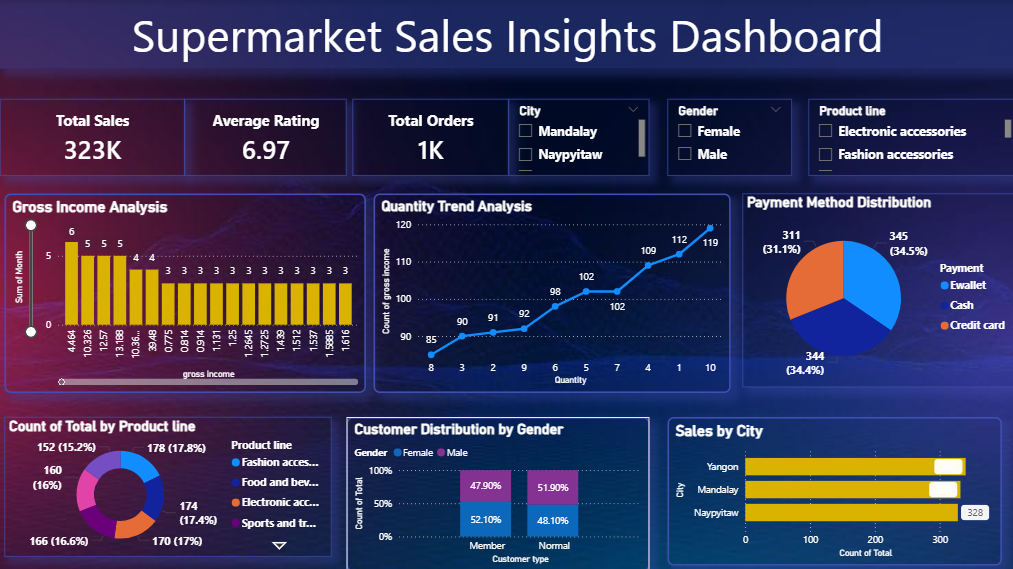

What the dashboard file says about the page in this screenshot:
{"tool":"powerbi","page":{"name":"Page 1","canvas":[1280,720],"ordinal":0},"visuals":[{"type":"lineChart","title":"Quantity Trend Analysis","fields":{"Category":["Sheet1.Quantity"],"Y":["CountNonNull(Sheet1.gross income)"]},"box":[470.6,243.8,449.8,251.3],"z":0},{"type":"columnChart","title":"Gross  Income Analysis","fields":{"Category":["Sheet1.gross income"],"Y":["Sum(Sheet1.Month)"]},"box":[5.7,243.8,455.4,251.3],"z":1000},{"type":"cardVisual","fields":{"Data":["CountNonNull(Sheet1.Invoice ID)"]},"box":[444.1,124.7,196.5,96.4],"z":2000},{"type":"cardVisual","fields":{"Data":["Avg(Sheet1.Rating)"]},"box":[232.4,124.7,204.1,96.4],"z":3000},{"type":"clusteredBarChart","title":"Sales by City","fields":{"Y":["CountNonNull(Sheet1.Total)"],"Category":["Sheet1.City"]},"box":[841,525.4,421.4,187.1],"z":4000},{"type":"donutChart","fields":{"Category":["Sheet1.Product line"],"Y":["CountNonNull(Sheet1.Total)"]},"box":[5.7,525.4,412,175.7],"z":5000},{"type":"pieChart","title":"Payment Method Distribution","fields":{"Category":["Sheet1.Payment"],"Y":["CountNonNull(Sheet1.Payment)"]},"box":[935.4,243.8,345.8,243.8],"z":6000},{"type":"hundredPercentStackedColumnChart","title":"Customer Distribution by Gender","fields":{"Category":["Sheet1.Customer type"],"Y":["CountNonNull(Sheet1.Total)"],"Series":["Sheet1.Gender"]},"box":[436.5,525.4,381.7,194.6],"z":7000},{"type":"slicer","fields":{"Values":["Sheet1.City"]},"box":[640.6,124.7,177.6,96.4],"z":8000},{"type":"slicer","fields":{"Values":["Sheet1.Product line"]},"box":[1018.6,124.7,260.8,96.4],"z":9000},{"type":"slicer","fields":{"Values":["Sheet1.Gender"]},"box":[841,124.7,156.9,96.4],"z":10000},{"type":"textbox","box":[0,0,1279.4,86.9],"z":11000},{"type":"cardVisual","fields":{"Data":["Sum(Sheet1.Total)"]},"box":[0,124.7,232.4,96.4],"z":12000}]}

Visuals, with their boxes in screenshot pixels (x1, y1, x2, y2), scaled from the page's 1280x720 canvas onto the 1013x569 screenshot:
"Quantity Trend Analysis" lineChart: [x1=372, y1=193, x2=728, y2=391]
"Gross  Income Analysis" columnChart: [x1=5, y1=193, x2=365, y2=391]
cardVisual - CountNonNull(Sheet1.Invoice ID): [x1=351, y1=99, x2=507, y2=175]
cardVisual - Avg(Sheet1.Rating): [x1=184, y1=99, x2=345, y2=175]
"Sales by City" clusteredBarChart: [x1=666, y1=415, x2=999, y2=563]
donutChart - Sheet1.Product line x CountNonNull(Sheet1.Total): [x1=5, y1=415, x2=331, y2=554]
"Payment Method Distribution" pieChart: [x1=740, y1=193, x2=1012, y2=385]
"Customer Distribution by Gender" hundredPercentStackedColumnChart: [x1=345, y1=415, x2=648, y2=568]
slicer - Sheet1.City: [x1=507, y1=99, x2=648, y2=175]
slicer - Sheet1.Product line: [x1=806, y1=99, x2=1012, y2=175]
slicer - Sheet1.Gender: [x1=666, y1=99, x2=790, y2=175]
textbox: [x1=0, y1=0, x2=1012, y2=69]
cardVisual - Sum(Sheet1.Total): [x1=0, y1=99, x2=184, y2=175]
